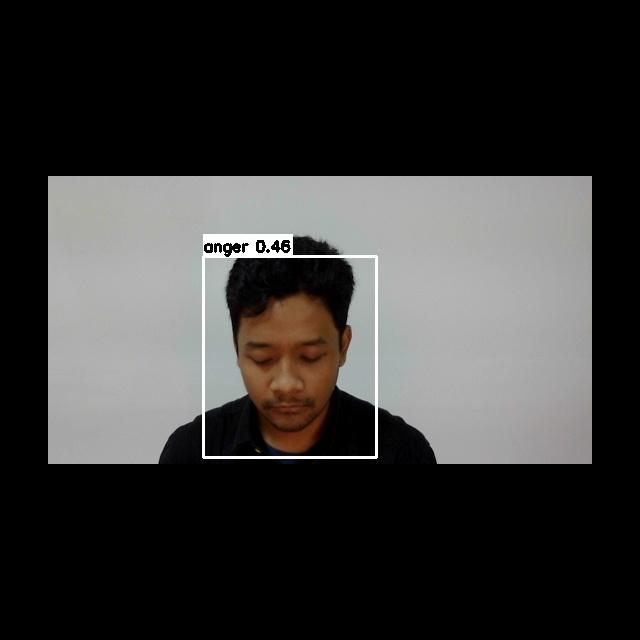Sad: (231, 323, 343, 423)
